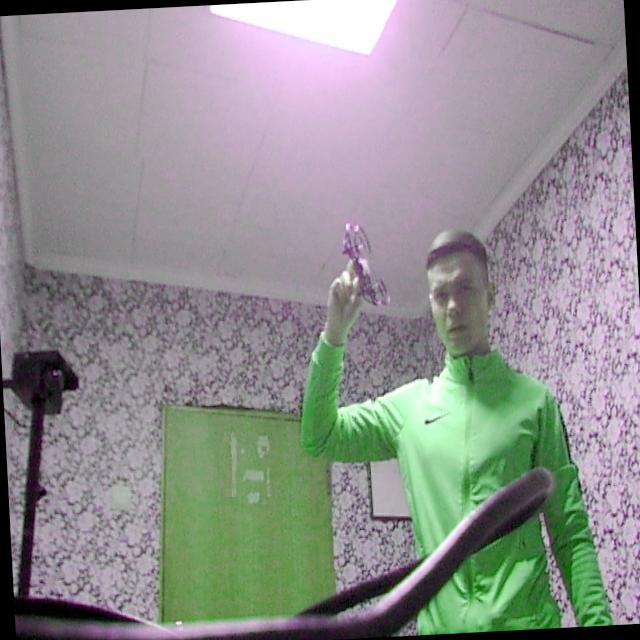drone: (328, 197, 403, 320)
